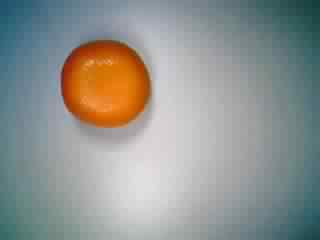orange: (53, 35, 152, 132)
